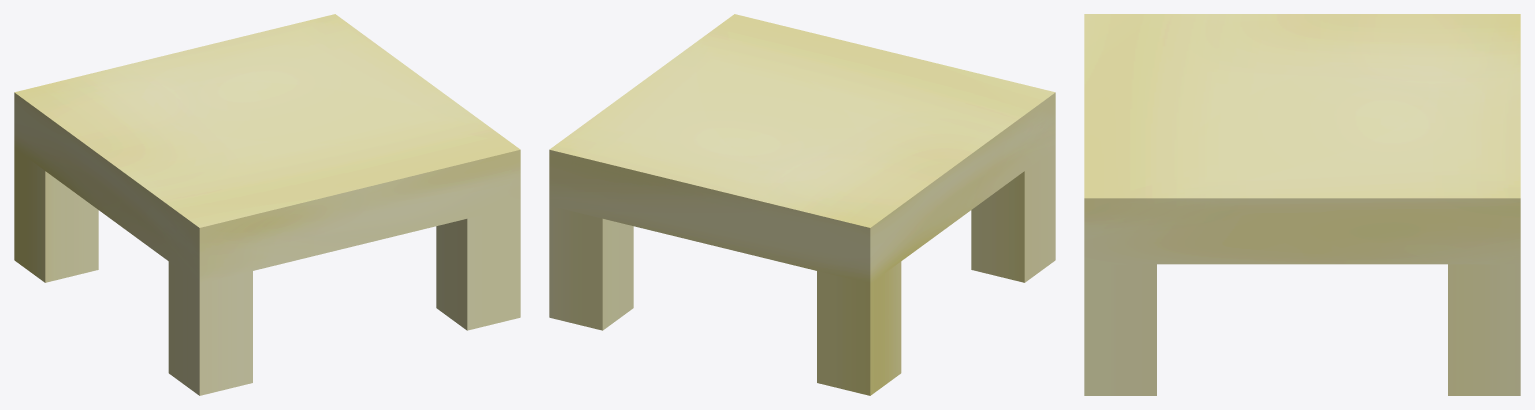
Rendered from Table.fbx.
The picture shows the model from 3 angles, left to right: view 1: azimuth 30°, elevation 25°; view 2: azimuth 150°, elevation 25°; view 3: azimuth 270°, elevation 25°; orthographic projection. The views are drawn at different scales.
Parts seen in each view (by area): view 1: Cube; view 2: Cube; view 3: Cube.
Part boxes in pixels (<box>): Cube: <box>14,14,520,395</box>; Cube: <box>549,14,1055,395</box>; Cube: <box>1084,14,1520,395</box>.
Bounding box in the file's own units: 300 × 150 × 300.
1 material, 1 textured.
